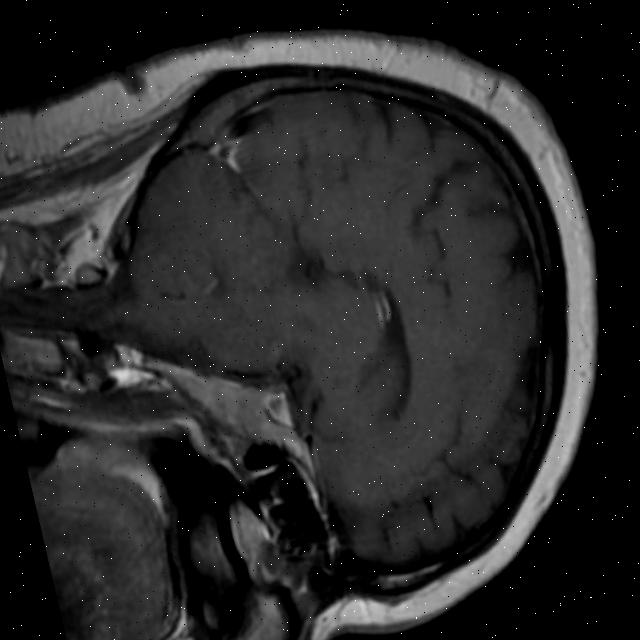Pituitary: (244, 384, 295, 451)
